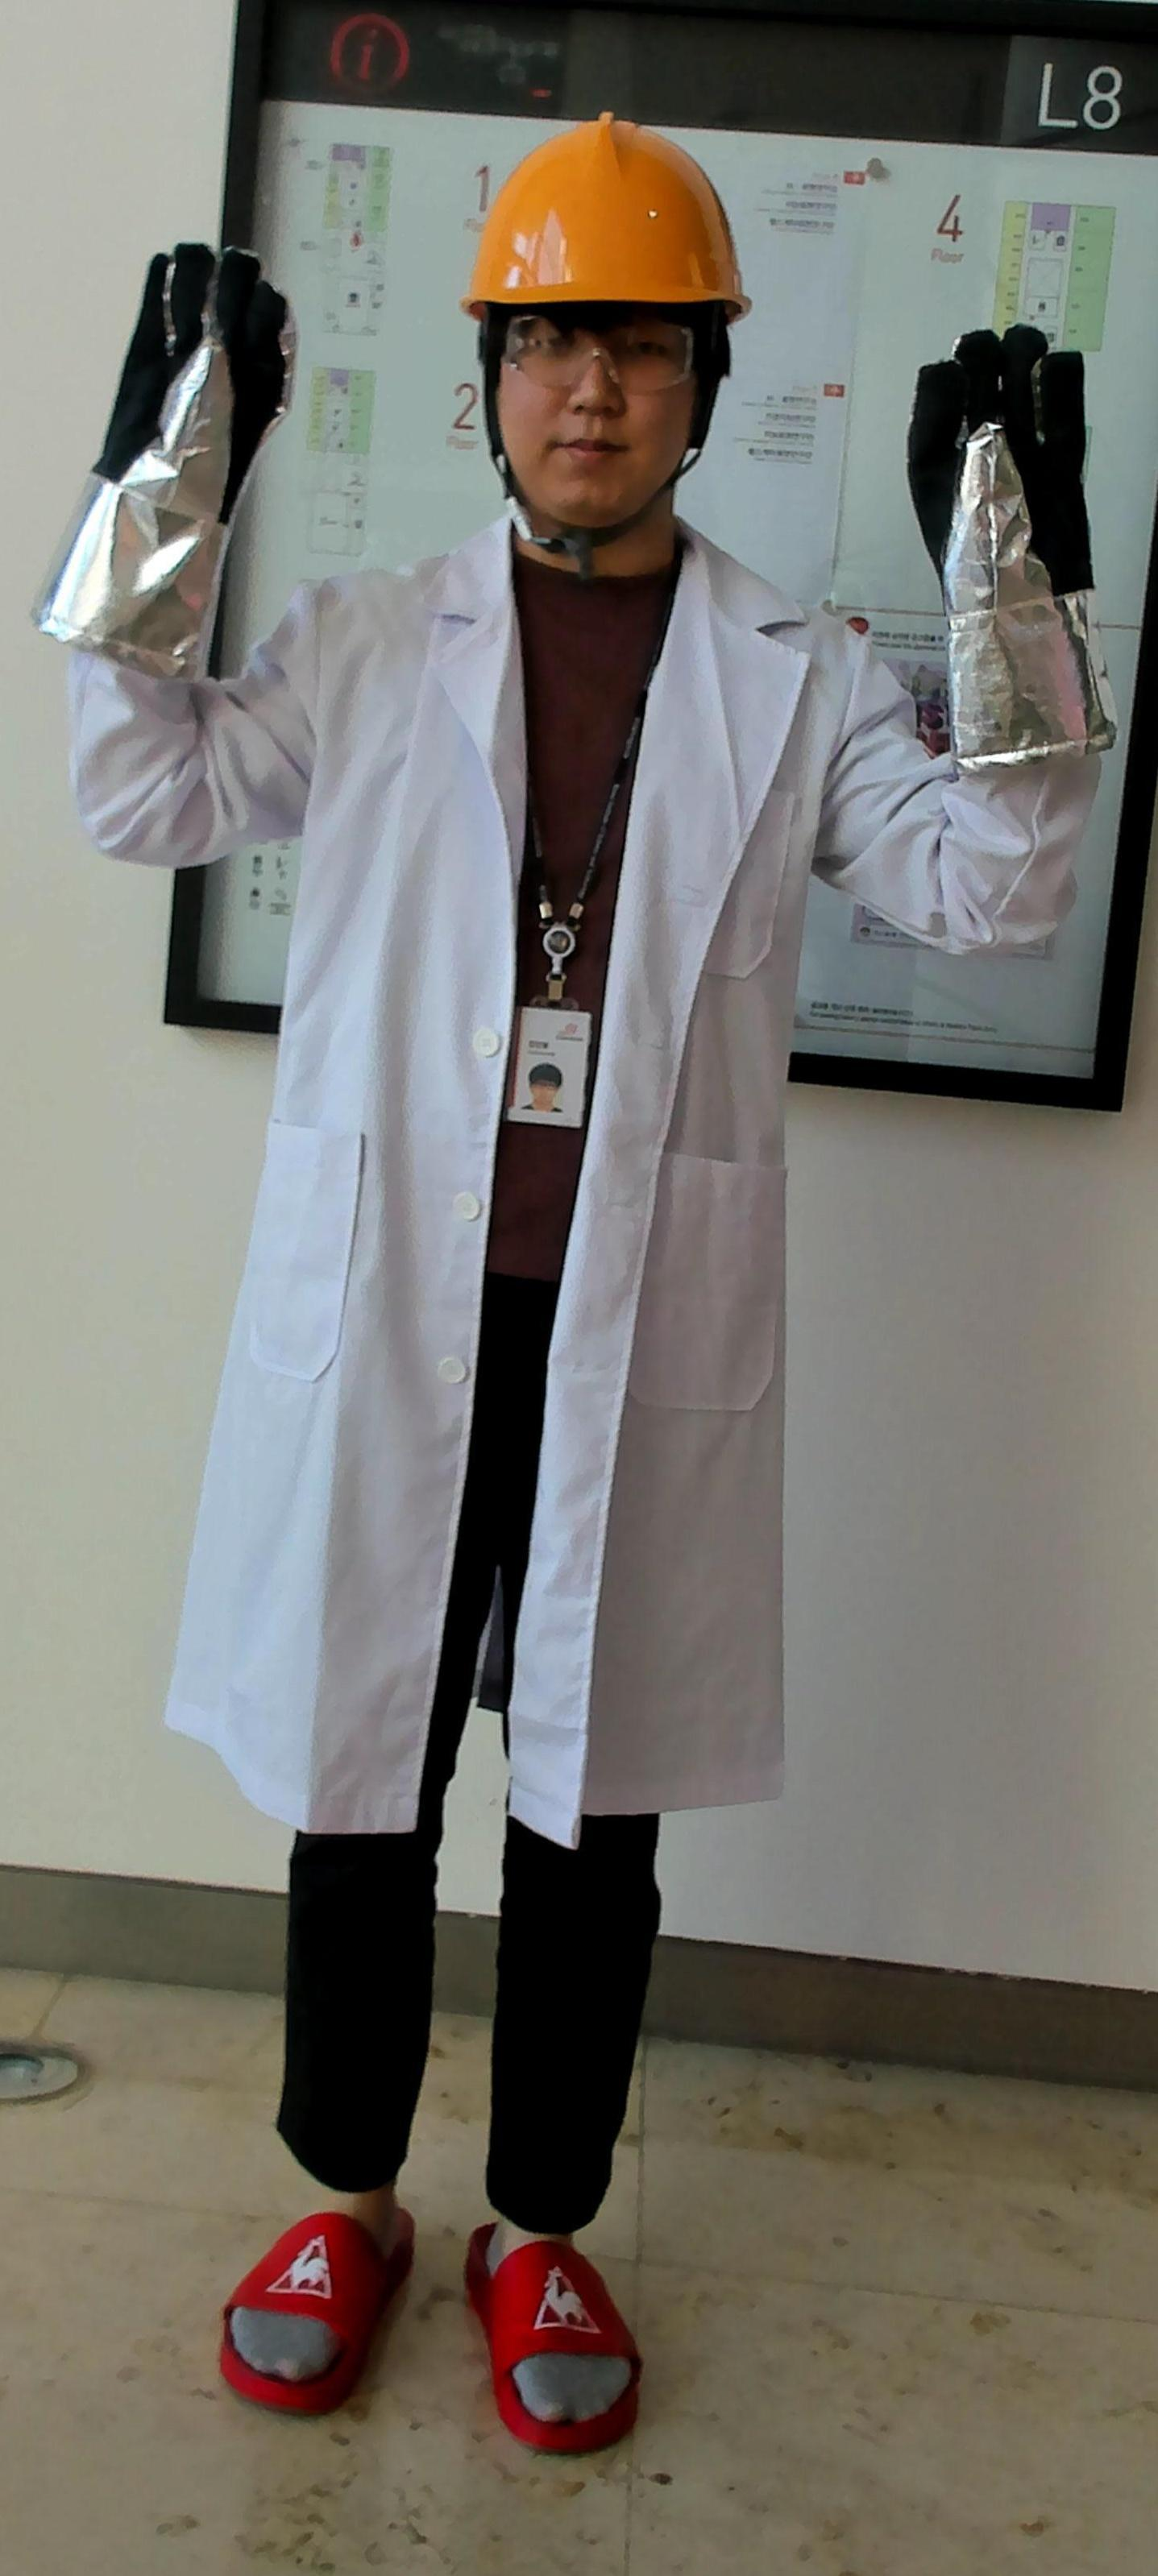lab_coat: (194, 618, 859, 1804)
